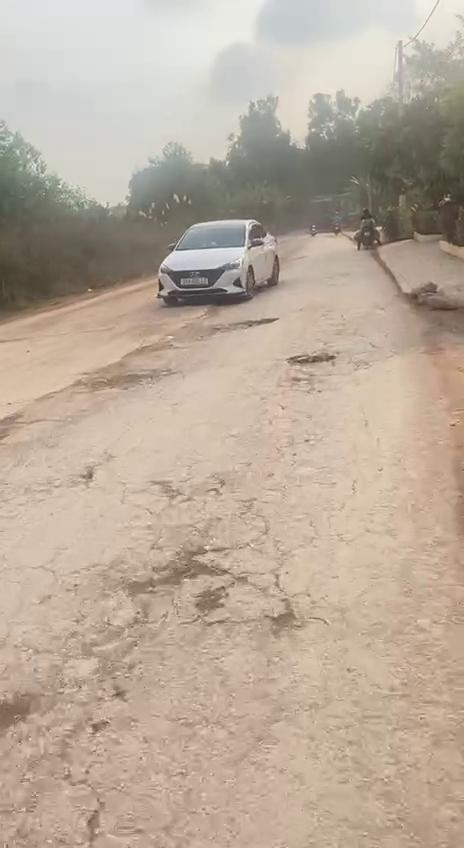pothole: (72, 362, 179, 394), (288, 348, 338, 368)
